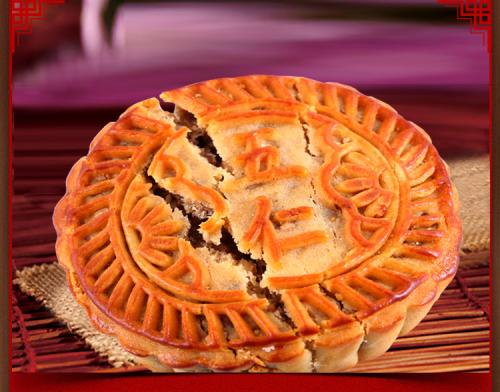MoonCake: (51, 73, 463, 373)
